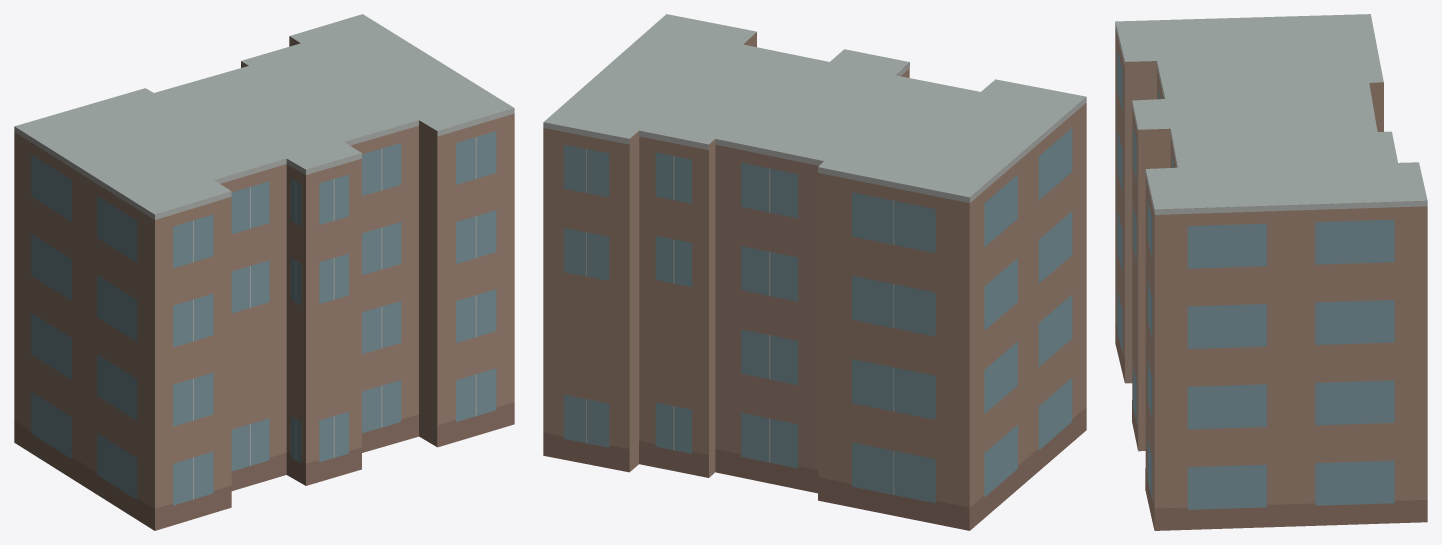
File: survey-upis-32759665.glb
3 renders of one model, left to right at view 1: azimuth 30°, elevation 25°; view 2: azimuth 150°, elevation 25°; view 3: azimuth 270°, elevation 25°, orthographic. The views are drawn at different scales.
Parts seen in each view (by area): view 1: survey-upis-32759665.tmp; view 2: survey-upis-32759665.tmp; view 3: survey-upis-32759665.tmp.
Boxes of the visible parts, bbox=[...] form: survey-upis-32759665.tmp: bbox=[14, 14, 514, 530]; survey-upis-32759665.tmp: bbox=[543, 14, 1086, 530]; survey-upis-32759665.tmp: bbox=[1115, 14, 1427, 530].
Size of the model in its own units: 18.39 by 14.1 by 12.43.
